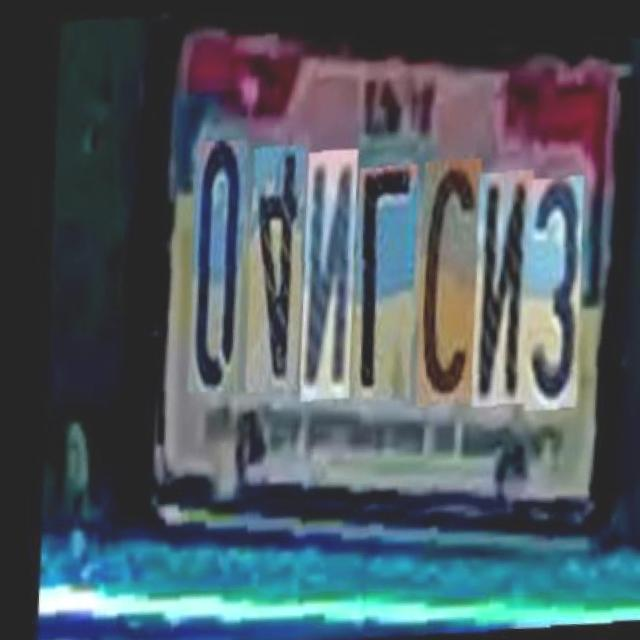0: (166, 141, 245, 400)
3: (502, 191, 582, 431)
4: (223, 149, 304, 403)
c: (394, 169, 479, 423)
l: (329, 173, 416, 418)
n: (278, 155, 355, 413), (450, 182, 531, 425)
